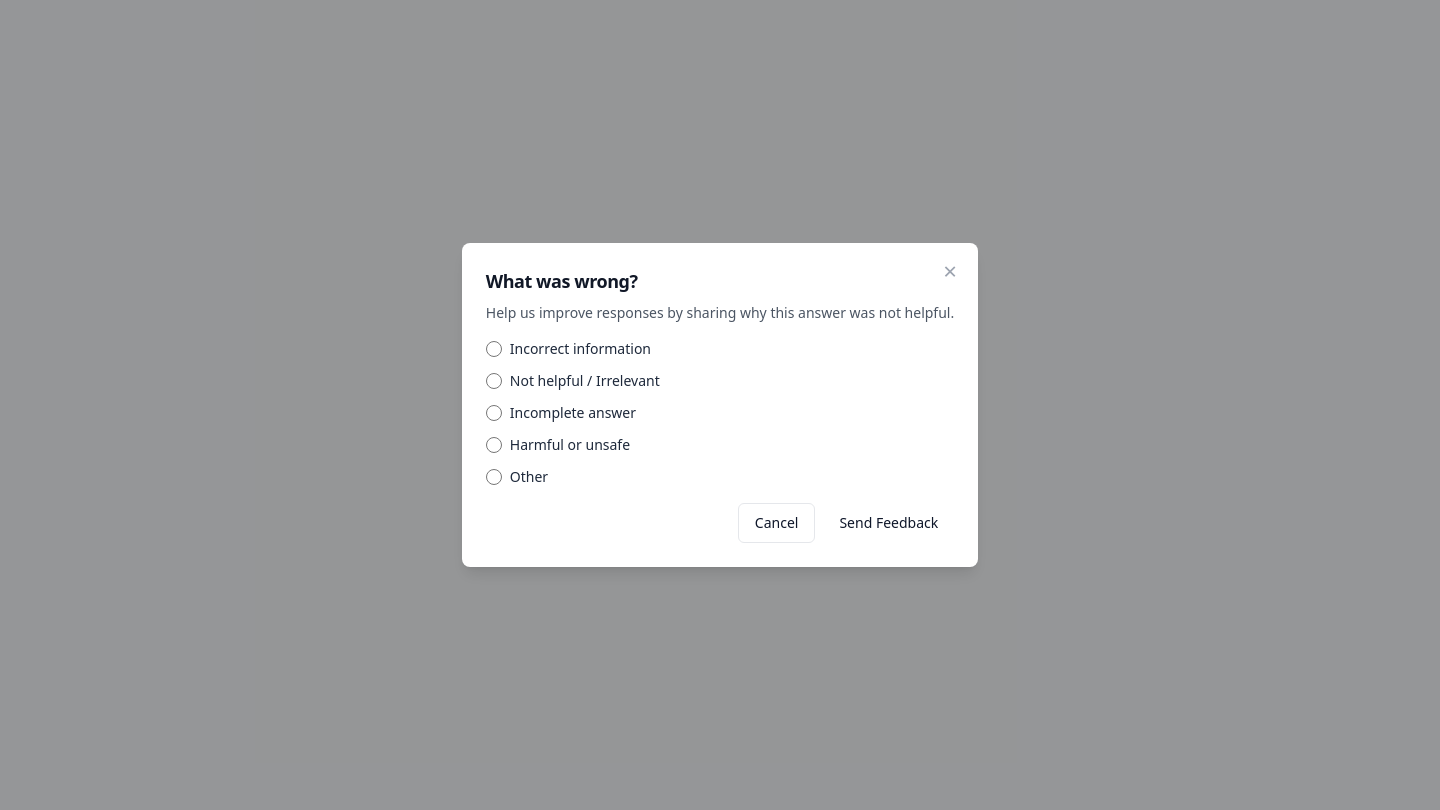
Test: FeedbackReasonModal › shows text input field when "Other" is selected
Click the radio button labelled "Other" at (494, 477), box [486,469,502,485]
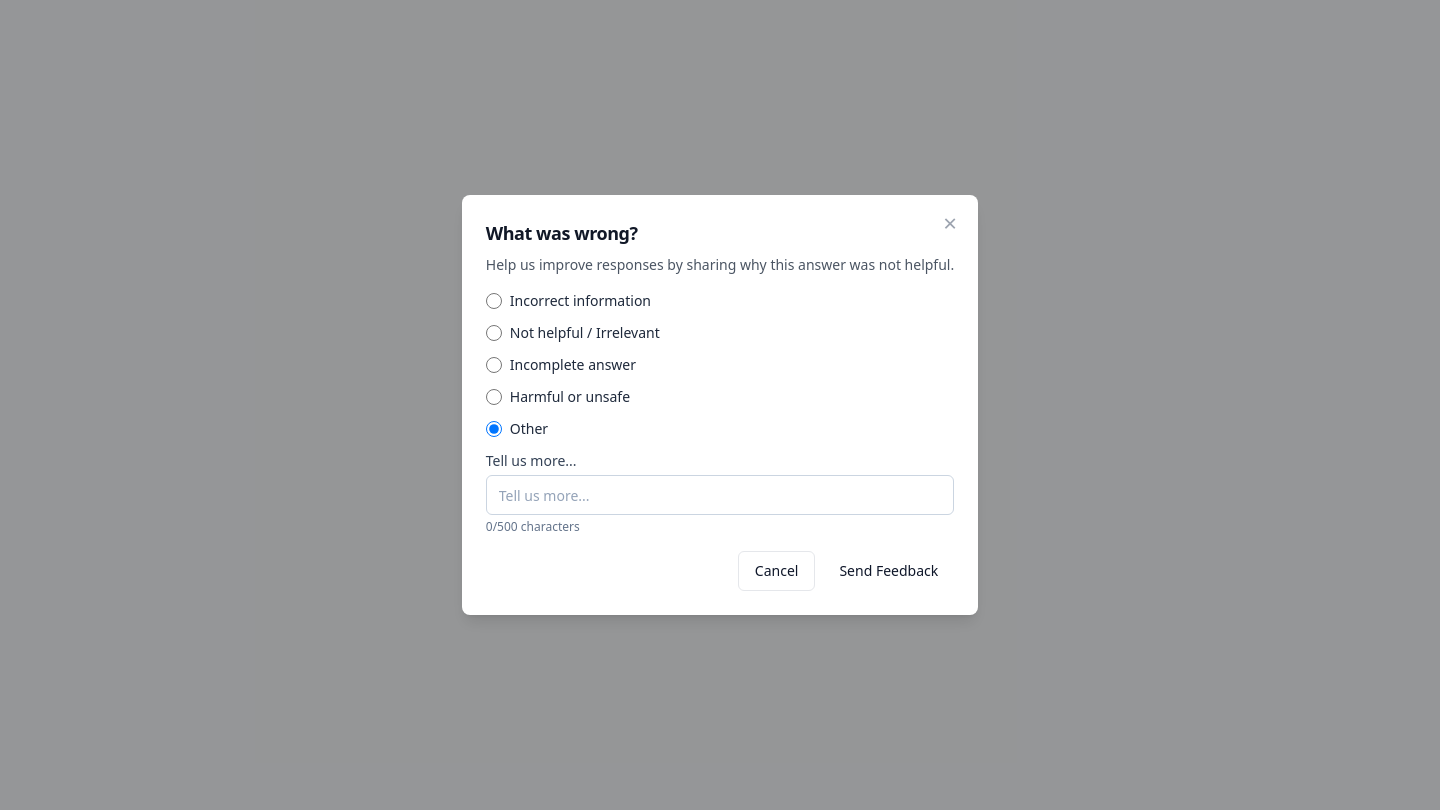
Check: the field with placeholder "Tell us more..." is shown, box [486,475,954,515]
